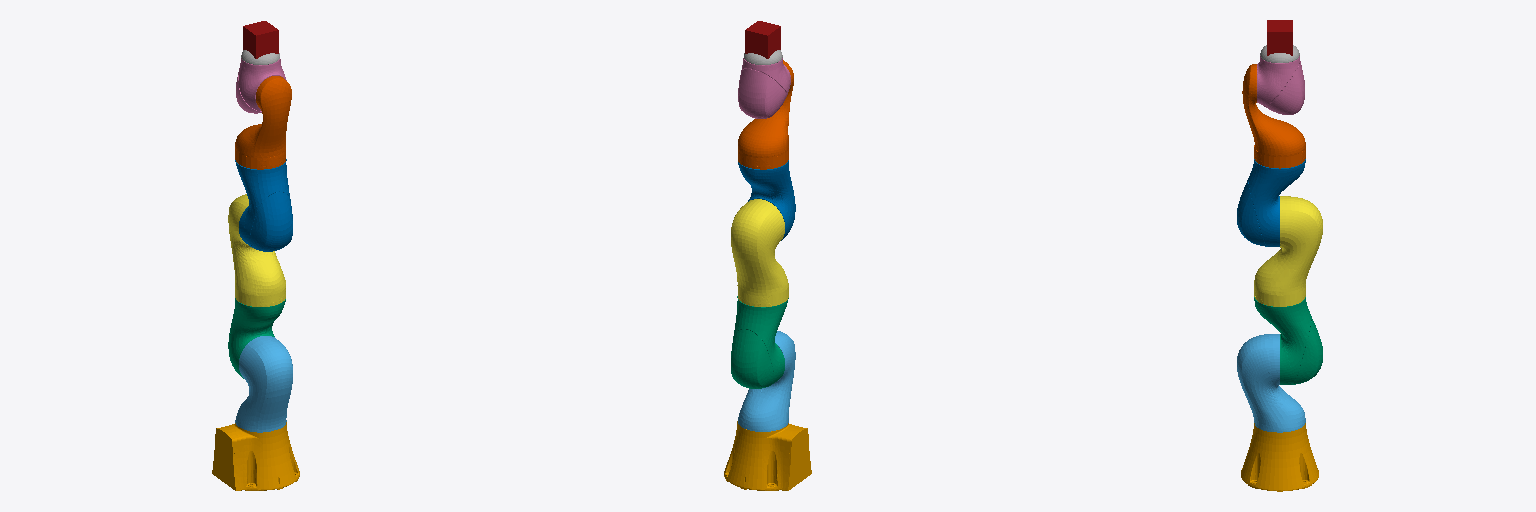
URDF robot description (kuka_iiwa):
<?xml version="1.0" ?>
<robot name="kuka_iiwa">
    <link name="base_link">
        <inertial>
            <origin xyz="0 0 0.14" rpy="0 -0 0" />
            <mass value="4" />
            <inertia ixx="0.4" iyy="0.4" izz="0.4" ixy="0" ixz="0" iyz="0" />
        </inertial>
        <visual>
            <origin xyz="0 0 0" rpy="0 -0 0" />
            <geometry>
                <mesh filename="meshes/base.obj" scale="1 1 1" />
            </geometry>
        </visual>
        <!-- <collision>
            <origin xyz="0 0 0" rpy="0 -0 0" />
            <geometry>
                <mesh filename="meshes/base.obj" scale="1 1 1" />
            </geometry>
        </collision> -->
    </link>
    <link name="link0">
        <inertial>
            <origin xyz="0 0 0.14" rpy="0 -0 0" />
            <mass value="4" />
            <inertia ixx="0.4" iyy="0.4" izz="0.4" ixy="0" ixz="0" iyz="0" />
        </inertial>
        <visual>
            <origin xyz="0 0 0" rpy="0 -0 0" />
            <geometry>
                <mesh filename="meshes/link0.obj" scale="1 1 1" />
            </geometry>
        </visual>
        <!-- <collision>
            <origin xyz="0 0 0" rpy="0 -0 0" />
            <geometry>
                <mesh filename="meshes/link0.obj" scale="1 1 1" />
            </geometry>
        </collision> -->
    </link>
    <link name="link1">
        <inertial>
            <origin xyz="0 0 0.14" rpy="0 -0 0" />
            <mass value="4" />
            <inertia ixx="0.4" iyy="0.4" izz="0.4" ixy="0" ixz="0" iyz="0" />
        </inertial>
        <visual>
            <origin xyz="0 0 0" rpy="0 -0 0" />
            <geometry>
                <mesh filename="meshes/link1.obj" scale="1 1 1" />
            </geometry>
        </visual>
        <!-- <collision>
            <origin xyz="0 0 0" rpy="0 -0 0" />
            <geometry>
                <mesh filename="meshes/link1.obj" scale="1 1 1" />
            </geometry>
        </collision> -->
    </link>
    <link name="link2">
        <inertial>
            <origin xyz="0 0 0.14" rpy="0 -0 0" />
            <mass value="4" />
            <inertia ixx="0.4" iyy="0.4" izz="0.4" ixy="0" ixz="0" iyz="0" />
        </inertial>
        <visual>
            <origin xyz="0 0 0" rpy="0 -0 0" />
            <geometry>
                <mesh filename="meshes/link2.obj" scale="1 1 1" />
            </geometry>
        </visual>
        <!-- <collision>
            <origin xyz="0 0 0" rpy="0 -0 0" />
            <geometry>
                <mesh filename="meshes/link2.obj" scale="1 1 1" />
            </geometry>
        </collision> -->
    </link>
    <link name="link3">
        <inertial>
            <origin xyz="0 0 0.14" rpy="0 0 0" />
            <mass value="4" />
            <inertia ixx="0.4" iyy="0.4" izz="0.4" ixy="0" ixz="0" iyz="0" />
        </inertial>
        <visual>
            <origin xyz="0 0 0" rpy="0 0 3.1415926535897" />
            <geometry>
                <mesh filename="meshes/link3.obj" scale="1 1 1" />
            </geometry>
        </visual>
        <!-- <collision>
            <origin xyz="0 0 0" rpy="0 -0 0" />
            <geometry>
                <mesh filename="meshes/link3.obj" scale="1 1 1" />
            </geometry>
        </collision> -->
    </link>
    <link name="link4">
        <inertial>
            <origin xyz="0 0 0.14" rpy="0 0 0" />
            <mass value="3" />
            <inertia ixx="0.3" iyy="0.3" izz="0.3" ixy="0" ixz="0" iyz="0" />
        </inertial>
        <visual>
            <origin xyz="0 0 0" rpy="0 0 0" />
            <geometry>
                <mesh filename="meshes/link4.obj" scale="1 1 1" />
            </geometry>
        </visual>
        <!-- <collision>
            <origin xyz="0 0 0" rpy="0 -0 0" />
            <geometry>
                <mesh filename="meshes/link4.obj" scale="1 1 1" />
            </geometry>
        </collision> -->
    </link>
    <link name="link5">
        <inertial>
            <origin xyz="0 0 0.14" rpy="0 0 0" />
            <mass value="2" />
            <inertia ixx="0.2" iyy="0.2" izz="0.2" ixy="0" ixz="0" iyz="0" />
        </inertial>
        <visual>
            <origin xyz="0 -0.06 0" rpy="0 0 0" />
            <geometry>
                <mesh filename="meshes/link5.obj" scale="1 1 1" />
            </geometry>
        </visual>
        <!-- <collision>
            <origin xyz="0 -0.06 0" rpy="0 -0 0" />
            <geometry>
                <mesh filename="meshes/link5.obj" scale="1 1 1" />
            </geometry>
        </collision> -->
    </link>
    <link name="link6">
        <inertial>
            <origin xyz="0 0 0.03" rpy="0 0 0" />
            <mass value="1" />
            <inertia ixx="0.1" iyy="0.1" izz="0.1" ixy="0" ixz="0" iyz="0" />
        </inertial>
        <visual>
            <origin xyz="0 0 0" rpy="0 0 0" />
            <geometry>
                <mesh filename="meshes/link6.obj" scale="1 1 1" />
            </geometry>
        </visual>
        <!-- <collision>
            <origin xyz="0 0 0" rpy="0 0 0" />
            <geometry>
                <mesh filename="meshes/link6.obj" scale="1 1 1" />
            </geometry>
        </collision> -->
    </link>

    <link name="end-effector">
        <inertial>
            <origin xyz="0 0 0" rpy="0 0 0" />
            <mass value="1" />
            <inertia ixx="0.1" iyy="0.1" izz="0.1" ixy="0" ixz="0" iyz="0" />
        </inertial>
        <visual>
            <origin xyz="0 0 0" rpy="0 0 0" />
            <geometry>
                <box size="0.07 0.07 0.07" />
            </geometry>
            <material name="material_red">
                <color rgba="0.6 0.1 0.1 1.0" />
            </material>
        </visual>
        <collision>
            <origin xyz="0 0 0" rpy="0 0 0" />
            <geometry>
                <box size="0.07 0.07 0.07" />
            </geometry>
        </collision>
    </link>

    <joint name="j0" type="revolute">
        <parent link="base_link" />
        <child link="link0" />
        <origin xyz="0.000000 0.000000 0.155767" rpy="0.000000 0.000000 0.000000" />
        <axis xyz="0 0 1" />
        <limit lower="-2.967" upper="2.967" effort="176" velocity="1.7104" />
    </joint>
    <joint name="j1" type="revolute">
        <parent link="link0" />
        <child link="link1" />
        <origin xyz="0.000000 0.000000 0.182500" rpy="0.000000 0.000000 0.000000" />
        <axis xyz="0 1 0" />
        <limit lower="-2.0944" upper="2.0944" effort="176" velocity="1.7104" />
        <calibration falling="30"/>
    </joint>
    <joint name="j2" type="revolute">
        <parent link="link1" />
        <child link="link2" />
        <origin xyz="0.000000 0.000000 0.185000" rpy="0.000000 0.000000 0.000000" />
        <axis xyz="0 0 1" />
        <limit lower="-2.967" upper="2.967" effort="110" velocity="1.7453" />
    </joint>
    <joint name="j3" type="revolute">
        <parent link="link2" />
        <child link="link3" />
        <origin xyz="0.000000 0.000000 0.217000" rpy="0.000000 0.000000 3.1415926535897" />
        <axis xyz="0 1 0" />
        <limit lower="-2.0944" upper="2.0944" effort="110" velocity="2.2689" />
        <calibration falling="-60"/>
    </joint>
    <joint name="j4" type="revolute">
        <parent link="link3" />
        <child link="link4" />
        <origin xyz="0.000000 0.000000 0.186000" rpy="0.000000 0.000000 -3.1415926535897" />
        <axis xyz="0 0 1" />
        <limit lower="-2.967" upper="2.967" effort="110" velocity="2.4434" />
    </joint>
    <joint name="j5" type="revolute">
        <parent link="link4" />
        <child link="link5" />
        <origin xyz="0.000000 0.000000 0.217003" rpy="0.000000 0.000000 0.000000" />
        <axis xyz="0 1 0" />
        <limit lower="-2.0944" upper="2.0944" effort="40" velocity="3.1416" />
        <calibration falling="90"/>
    </joint>
    <joint name="j6" type="revolute">
        <parent link="link5" />
        <child link="link6" />
        <origin xyz="0.000000 0.000000 0.081000" rpy="0.000000 0.000000 0.000000" />
        <axis xyz="0 0 1" />
        <limit lower="-3.0543" upper="3.0543" effort="40" velocity="3.1416" />
    </joint>
    <joint name="jee" type="fixed">
        <parent link="link6" />
        <child link="end-effector" />
        <origin xyz="0.000000 0.000000 0.05" rpy="0.000000 0.000000 0.000000" />
    </joint>
</robot>

--- Facts derived from the render (not from the file) ---
The picture shows the robot from 3 angles, left to right: view 1: azimuth 30°, elevation 25°; view 2: azimuth 150°, elevation 25°; view 3: azimuth 270°, elevation 25°; orthographic projection.
Robot: kuka_iiwa — 9 links, 8 joints (7 revolute, 1 fixed); root link base_link; default pose: every joint at zero.
Visible links, largest first — view 1: base_link, link0, link3, link4, link2, link1, link5, end-effector; view 2: link2, base_link, link1, link0, link4, link5, link3, end-effector; view 3: link2, link0, base_link, link3, link1, link4, link5, end-effector.
Boxes of the visible links, x1,y1,x2,y2 form: base_link: (212, 422, 299, 490); link0: (235, 336, 292, 432); link3: (235, 159, 292, 251); link4: (235, 76, 291, 169); link2: (228, 194, 285, 306); link1: (228, 298, 285, 378); link5: (236, 58, 286, 113); end-effector: (243, 21, 278, 58); link2: (731, 199, 788, 306); base_link: (724, 421, 811, 490); link1: (731, 296, 788, 388); link0: (738, 331, 795, 431); link4: (738, 60, 793, 169); link5: (738, 58, 790, 118); link3: (738, 160, 795, 240); end-effector: (745, 21, 780, 58); link2: (1254, 196, 1322, 306); link0: (1237, 334, 1305, 432); base_link: (1241, 423, 1318, 491); link3: (1237, 159, 1305, 246); link1: (1254, 297, 1322, 384); link4: (1242, 64, 1305, 168); link5: (1257, 56, 1304, 114); end-effector: (1267, 20, 1292, 55).
Bounding box of the posed robot: 0.2168 × 0.2292 × 1.31 m (x, y, z).
8 mesh visuals loaded from 8 distinct referenced files (8 OBJ).
